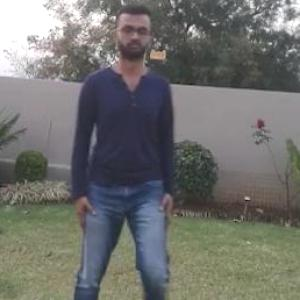follow: (77, 2, 187, 299)
